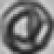correct: (0, 0, 52, 52)
